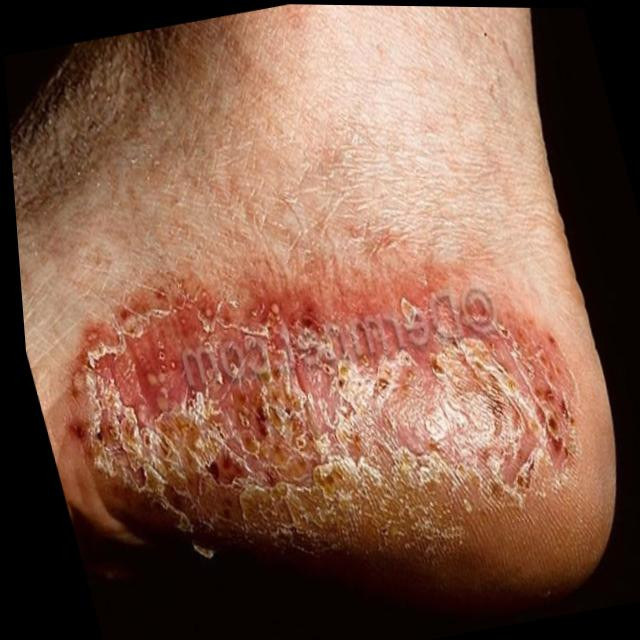Eczema: (38, 224, 616, 605)
